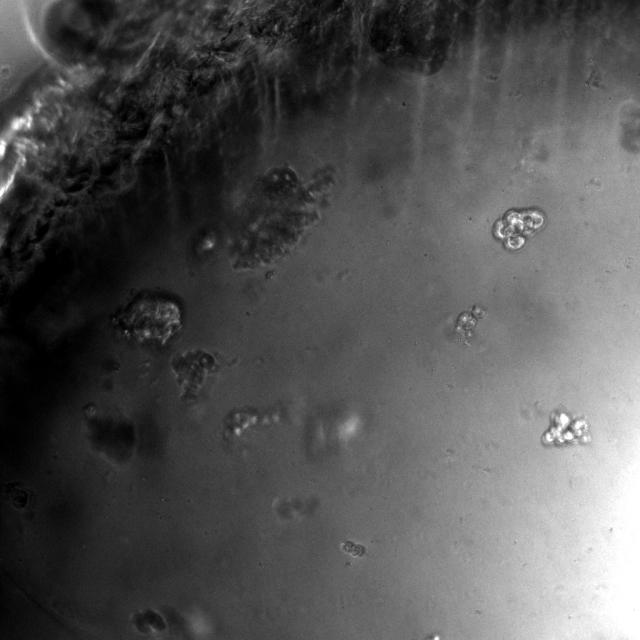organoid: (229, 164, 333, 269), (112, 290, 182, 345), (82, 403, 137, 462), (172, 349, 222, 401), (492, 207, 545, 250), (223, 406, 283, 438), (542, 408, 591, 445), (454, 304, 486, 344), (132, 610, 166, 632), (341, 540, 364, 557)
